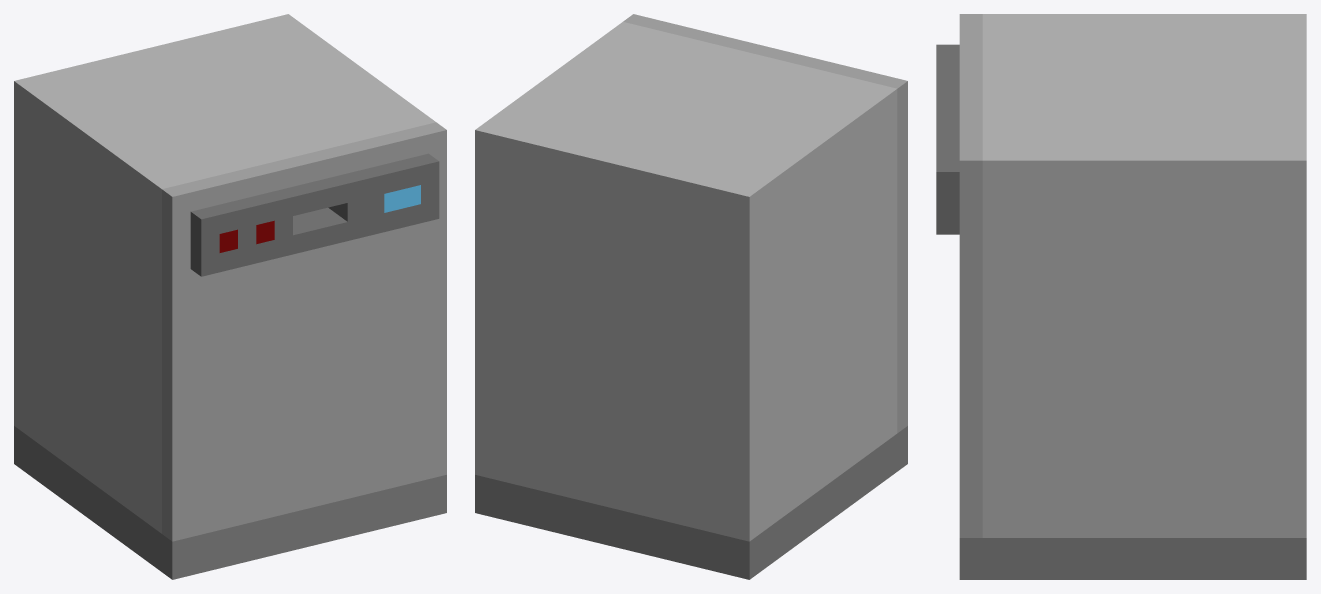
Rendered from dishwasher.obj.
3 views of the same model, side by side, from view 1: azimuth 30°, elevation 25°; view 2: azimuth 150°, elevation 25°; view 3: azimuth 270°, elevation 25° (orthographic). The views are drawn at different scales.
Bounding box in the file's own units: 1.5 × 2 × 1.6.
Materials: 1 (1 with a texture image).
